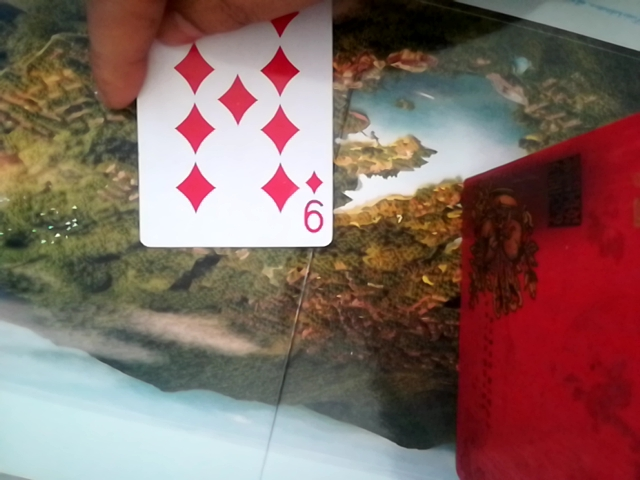fk 9: (136, 8, 333, 253)
